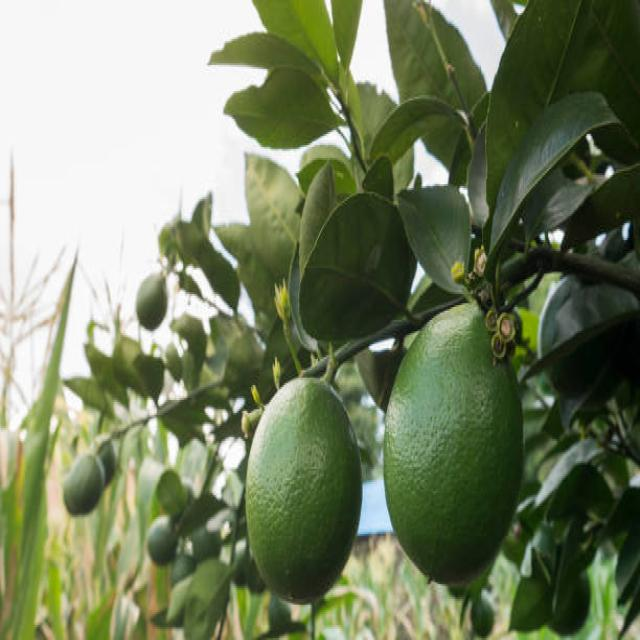Unripe: (382, 305, 524, 587), (246, 374, 363, 600)
